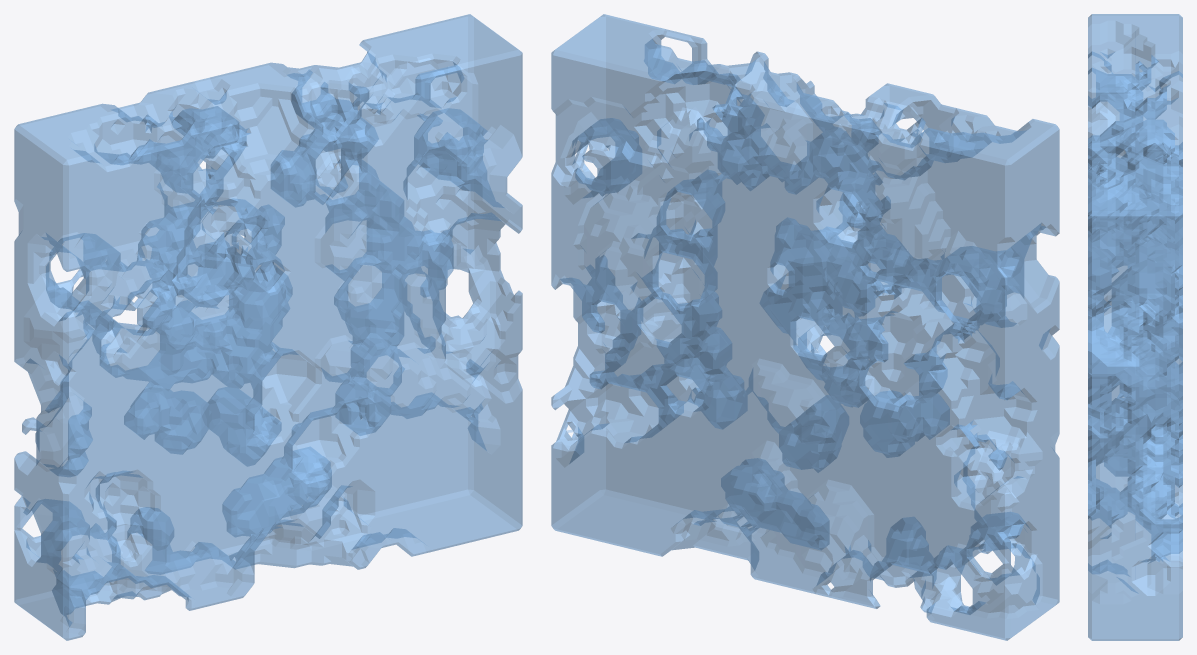
The model's file is v2-A02-rounded-rods.glb.
The picture shows the model from 3 angles, left to right: view 1: azimuth 30°, elevation 25°; view 2: azimuth 150°, elevation 25°; view 3: azimuth 270°, elevation 25°; orthographic projection. The views are drawn at different scales.
Parts seen in each view (by area): view 1: SEMICONDUCTOR_SOLID_TARGET; view 2: SEMICONDUCTOR_SOLID_TARGET; view 3: SEMICONDUCTOR_SOLID_TARGET.
Part boxes in pixels (x1,y1,x2,y2): SEMICONDUCTOR_SOLID_TARGET: (14, 14, 522, 640); SEMICONDUCTOR_SOLID_TARGET: (551, 14, 1059, 640); SEMICONDUCTOR_SOLID_TARGET: (1088, 14, 1182, 640).
Size of the model in its own units: 30000 by 30000 by 6000.
